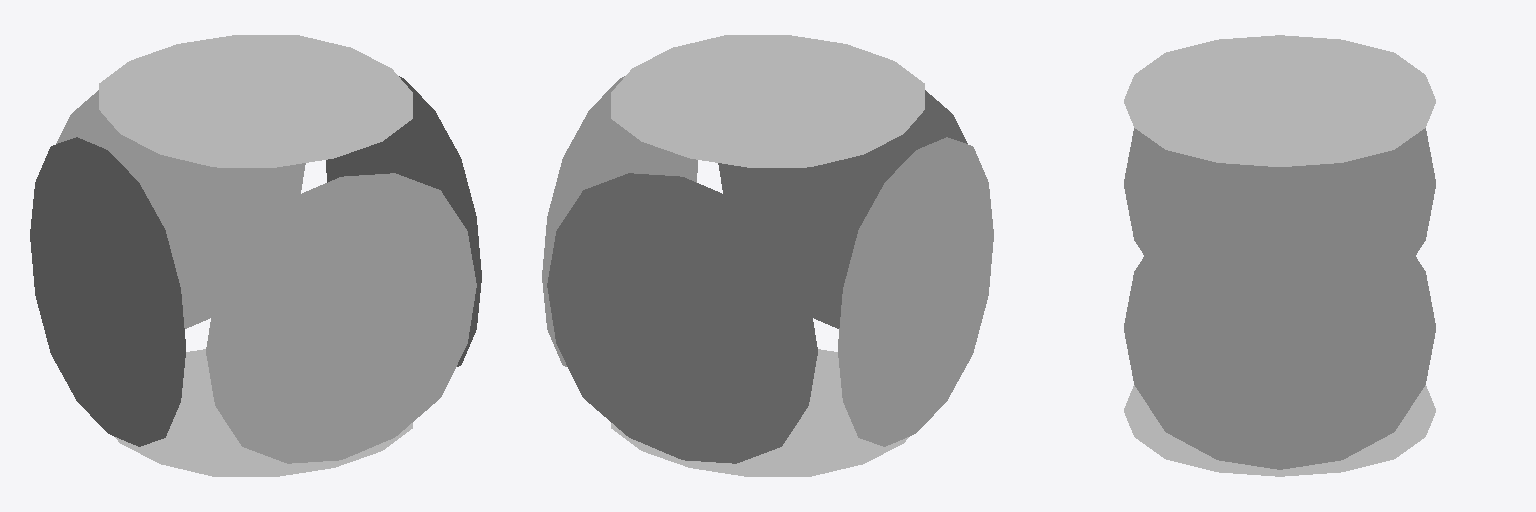
Rendered from tutorial_0001_popup_0000.obj.
3 renders of one model, left to right at view 1: azimuth 30°, elevation 25°; view 2: azimuth 150°, elevation 25°; view 3: azimuth 270°, elevation 25°, orthographic.
Parts seen in each view (by area): view 1: Cube.005_Cube.002; view 2: Cube.005_Cube.002; view 3: Cube.005_Cube.002.
Part boxes in pixels (bbox=[...]): Cube.005_Cube.002: bbox=[30, 35, 481, 476]; Cube.005_Cube.002: bbox=[542, 35, 993, 476]; Cube.005_Cube.002: bbox=[1124, 35, 1435, 476].
Size of the model in its own units: 63.64 by 63.64 by 63.64.